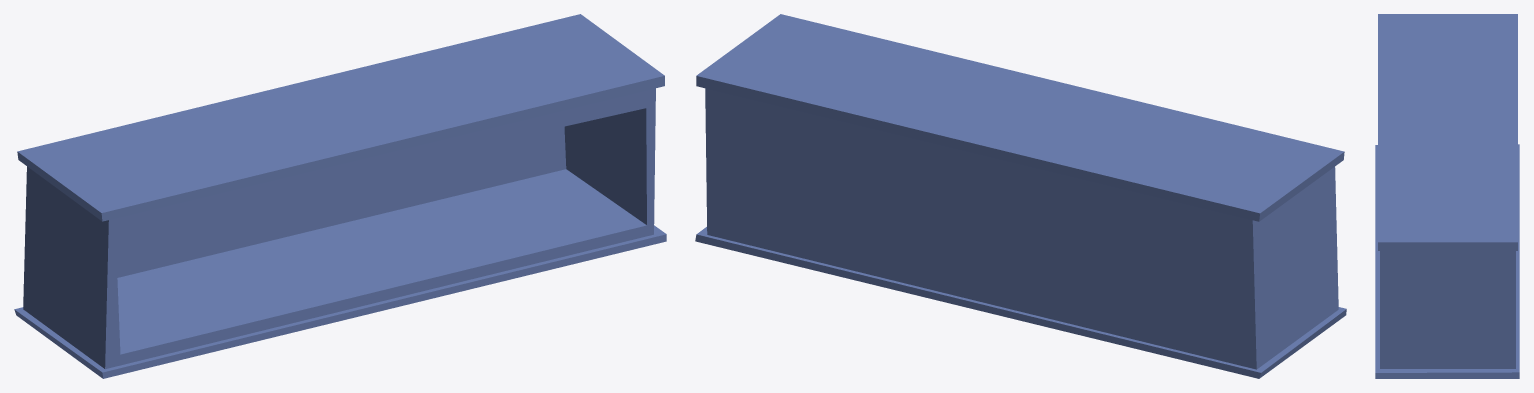
Rendered from ground.fbx.
3 views of the same model, side by side, from view 1: azimuth 30°, elevation 25°; view 2: azimuth 150°, elevation 25°; view 3: azimuth 270°, elevation 25° (orthographic). The views are drawn at different scales.
Parts seen in each view (by area): view 1: Ground00; view 2: Ground00; view 3: Ground00.
Part boxes in pixels (bbox=[...]): Ground00: bbox=[14, 14, 666, 378]; Ground00: bbox=[695, 14, 1346, 378]; Ground00: bbox=[1375, 14, 1519, 378].
Bounding box in the file's own units: 797 × 222 × 212.
